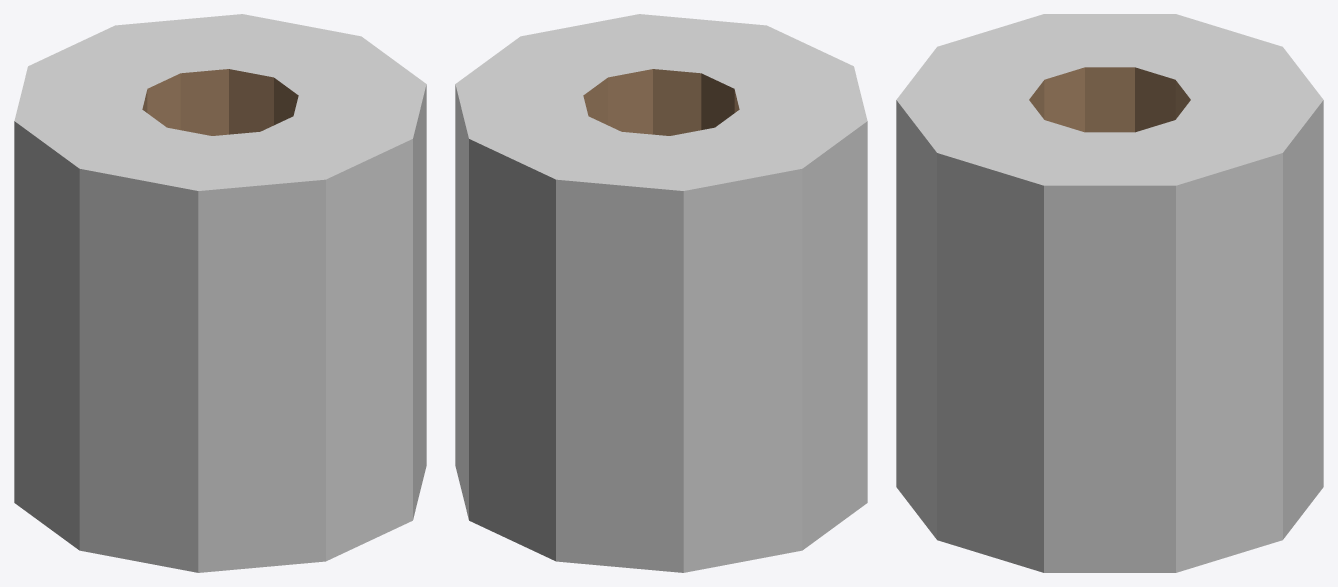
Rendered from PapelHigienico.fbx.
3 renders of one model, left to right at view 1: azimuth 30°, elevation 25°; view 2: azimuth 150°, elevation 25°; view 3: azimuth 270°, elevation 25°, orthographic.
Parts seen in each view (by area): view 1: Cylinder; view 2: Cylinder; view 3: Cylinder.
Boxes of the visible parts, box(x1,y1,x2,y2) form: Cylinder: box(14, 14, 426, 572); Cylinder: box(455, 14, 867, 572); Cylinder: box(896, 14, 1323, 572).
Size of the model in its own units: 24.73 by 26 by 26.
